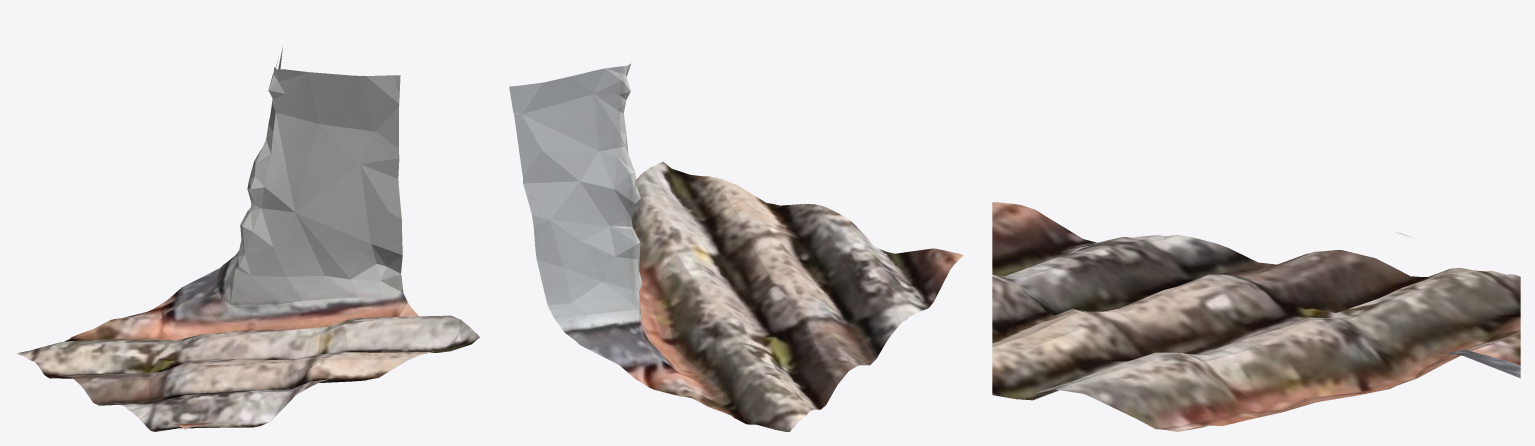
The picture shows the model from 3 angles, left to right: view 1: azimuth 30°, elevation 25°; view 2: azimuth 150°, elevation 25°; view 3: azimuth 270°, elevation 25°; orthographic projection. The views are drawn at different scales.
Size of the model in its own units: 0.8374 by 0.7439 by 0.8374.
Materials: 3 (3 with a texture image).
